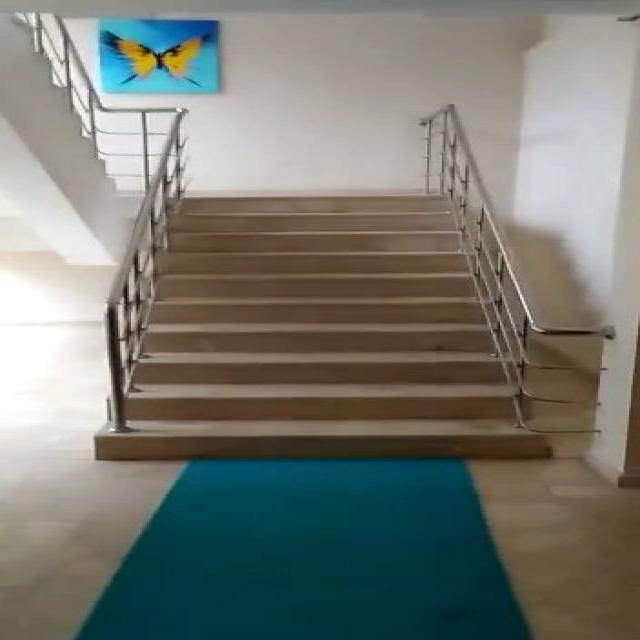stairs: (94, 191, 564, 459)
